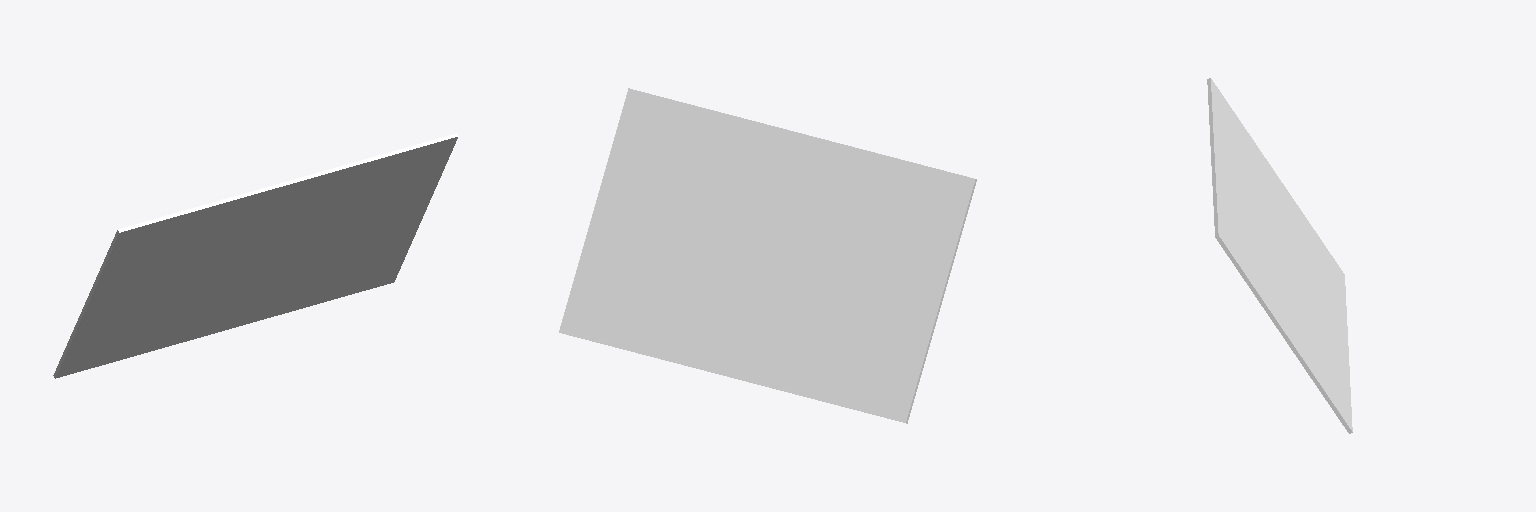
The model's file is Whiteboard.obj.
3 renders of one model, left to right at view 1: azimuth 30°, elevation 25°; view 2: azimuth 150°, elevation 25°; view 3: azimuth 270°, elevation 25°, orthographic.
Size of the model in its own units: 3.74 by 2.15 by 1.36.